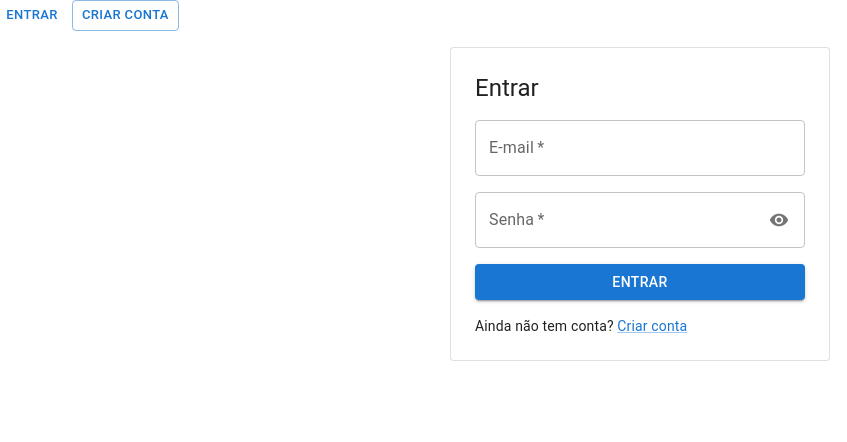
Test case: login and registration › answers an incomplete login form with the generic message, without asking the API
Type "not-an-email" into the field labelled "E-mail *" at (640, 148), box [475,120,805,176]
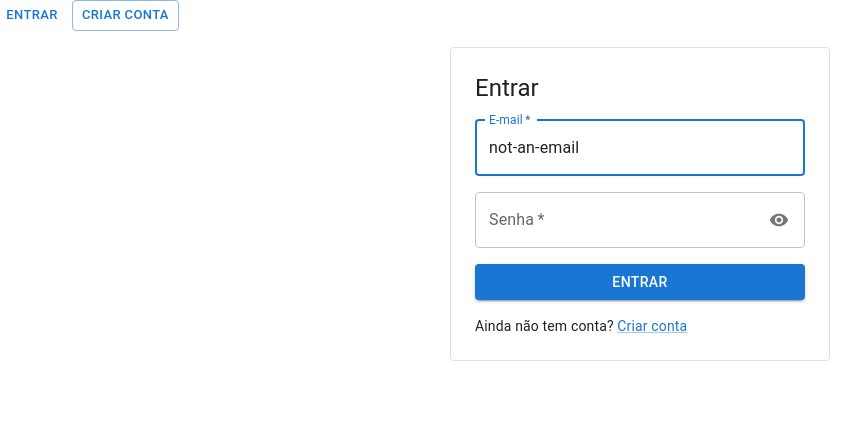
Press Tab
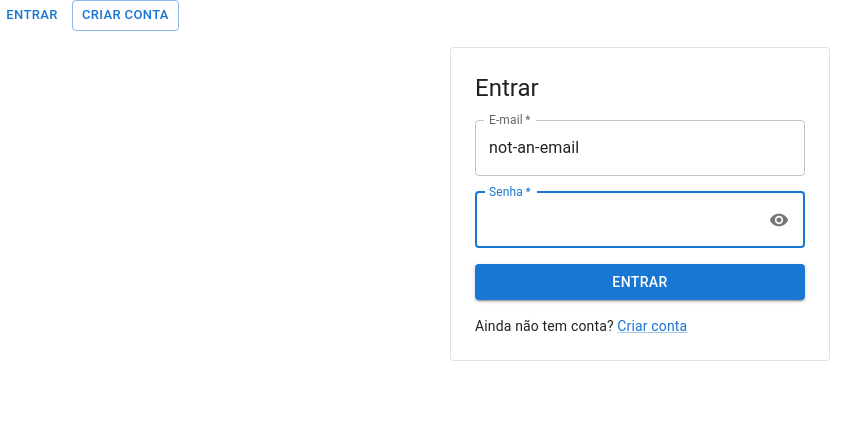
Expected: the text "E-mail ou senha inválidos." is not shown
Click the button "Entrar" at (640, 282), box [475,264,805,300]
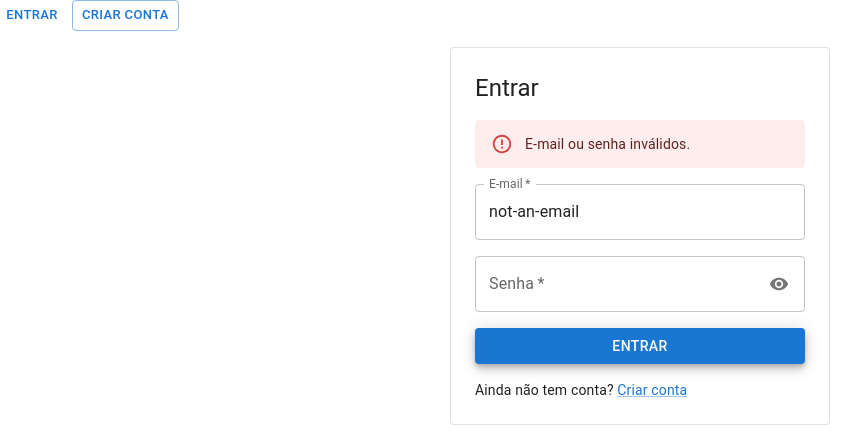
Now the text "E-mail ou senha inválidos." is shown, box [525,136,690,152]
